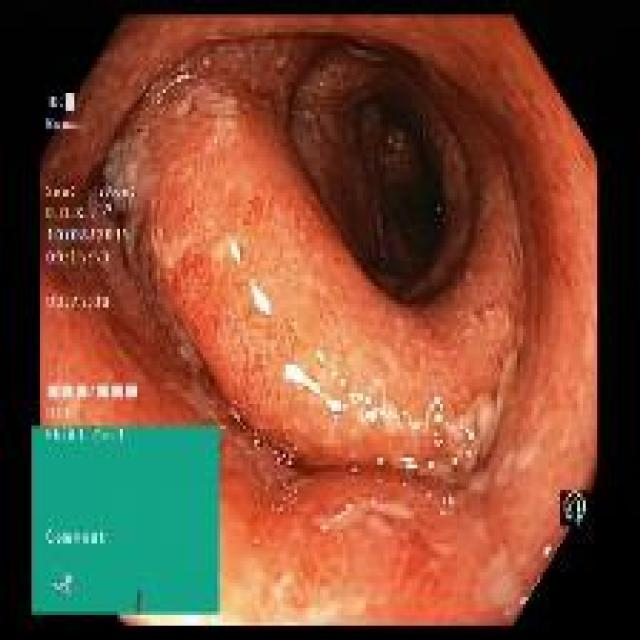ulcerative-colitis: (40, 17, 596, 623)
